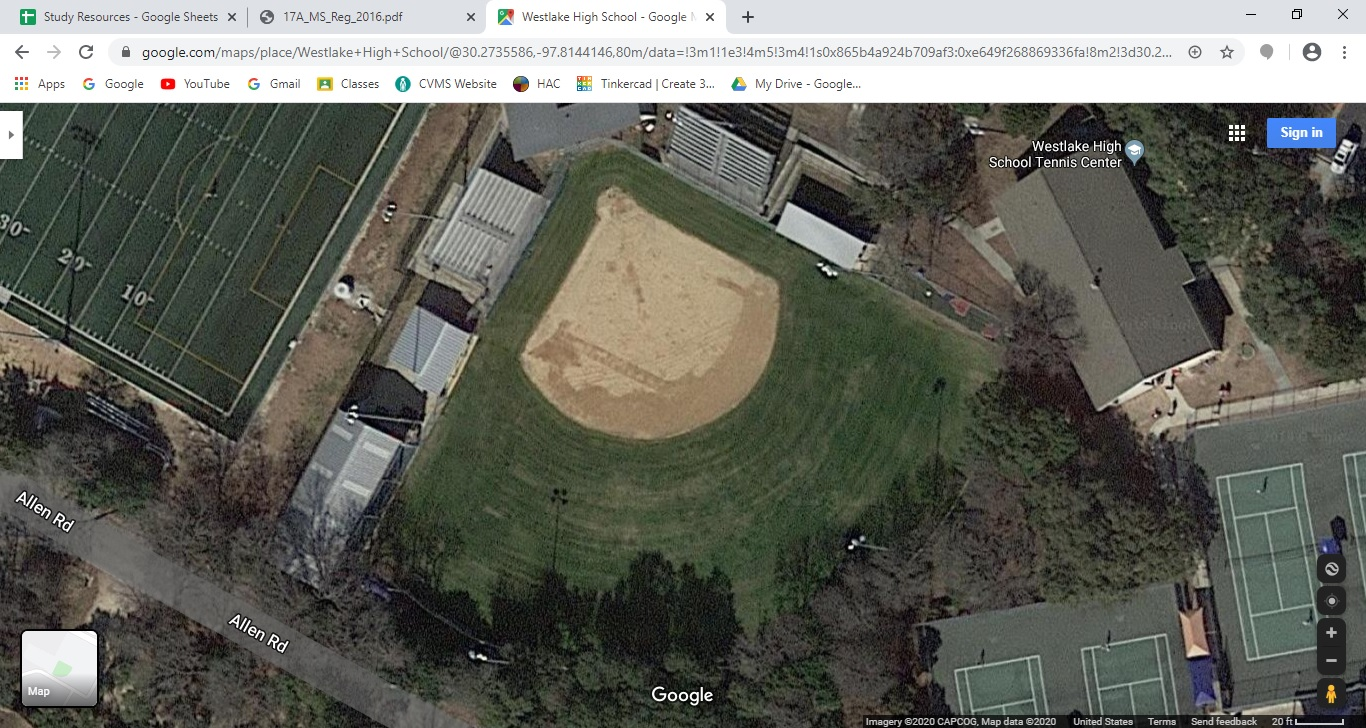baseball: (395, 165, 1018, 627)
tennis: (1198, 455, 1324, 687)
